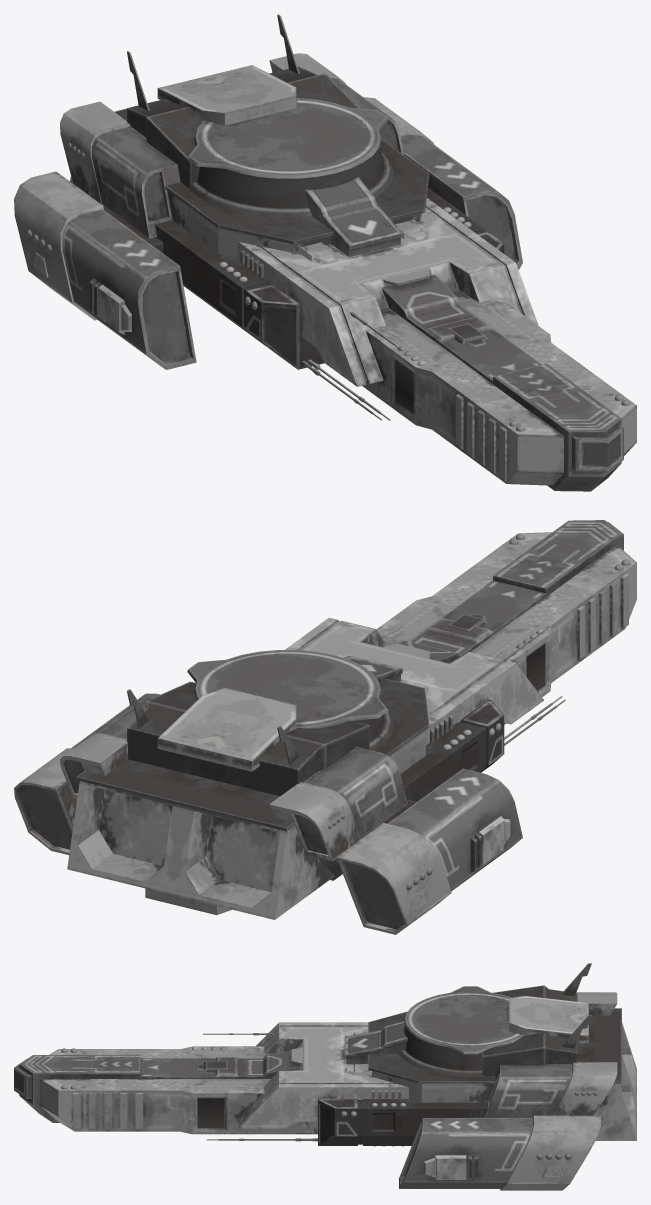
Rendered from cruiser.glb.
3 views of the same model, one above another, from view 1: azimuth 30°, elevation 25°; view 2: azimuth 150°, elevation 25°; view 3: azimuth 270°, elevation 25° (orthographic). The views are drawn at different scales.
Parts seen in each view (by area): view 1: Insurgent; view 2: Insurgent; view 3: Insurgent.
Part boxes in pixels (x1,y1,x2,y2): Insurgent: (14, 14, 636, 491); Insurgent: (14, 520, 636, 934); Insurgent: (14, 963, 636, 1190).
Bounding box in the file's own units: 5.57 × 2.87 × 10.95.
Materials: 1 (1 with a texture image).
